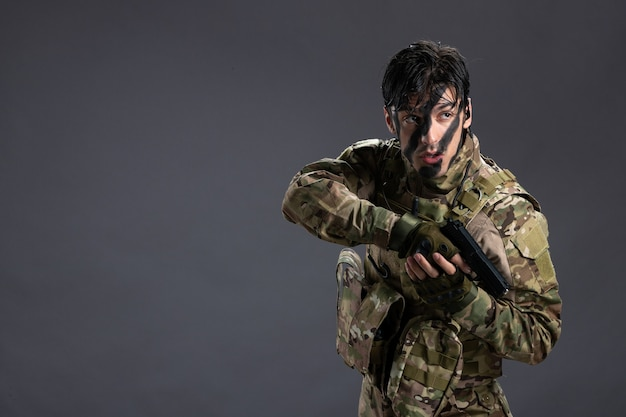gun: (439, 217, 510, 298)
